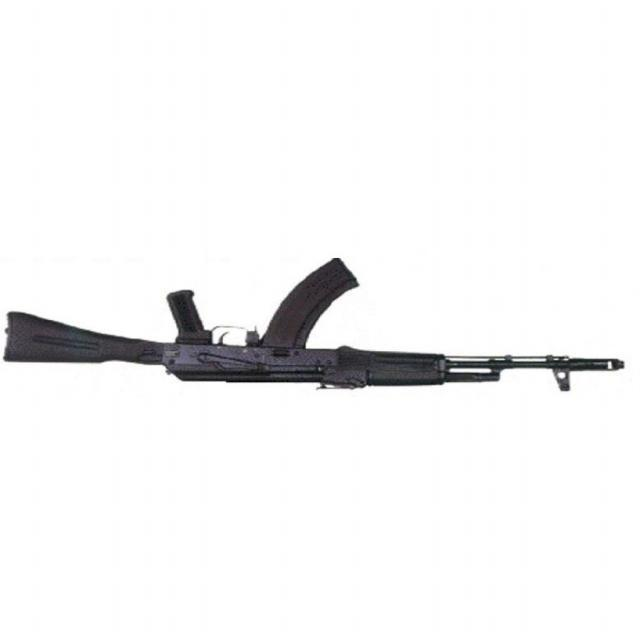weapon: (0, 257, 627, 394)
